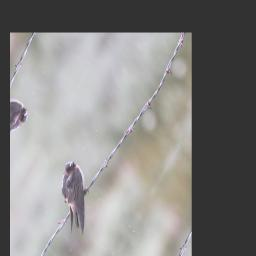Swallow: (43, 155, 106, 242)
